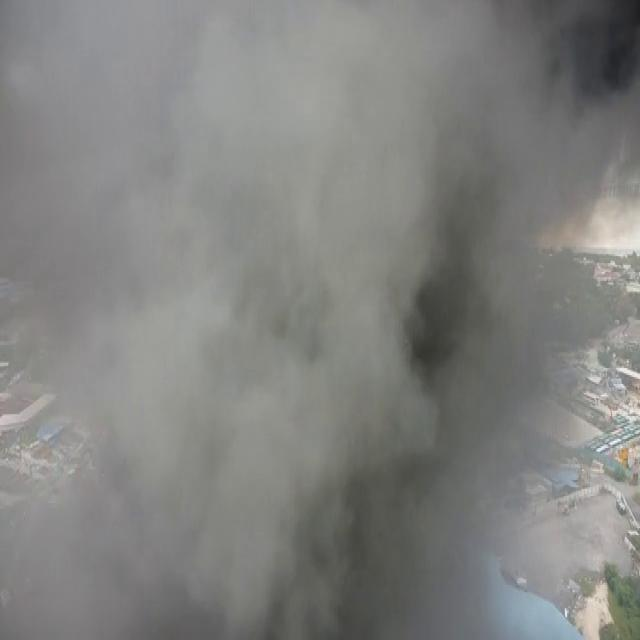smoke: (38, 306, 502, 638), (3, 8, 541, 294), (544, 3, 640, 205)
